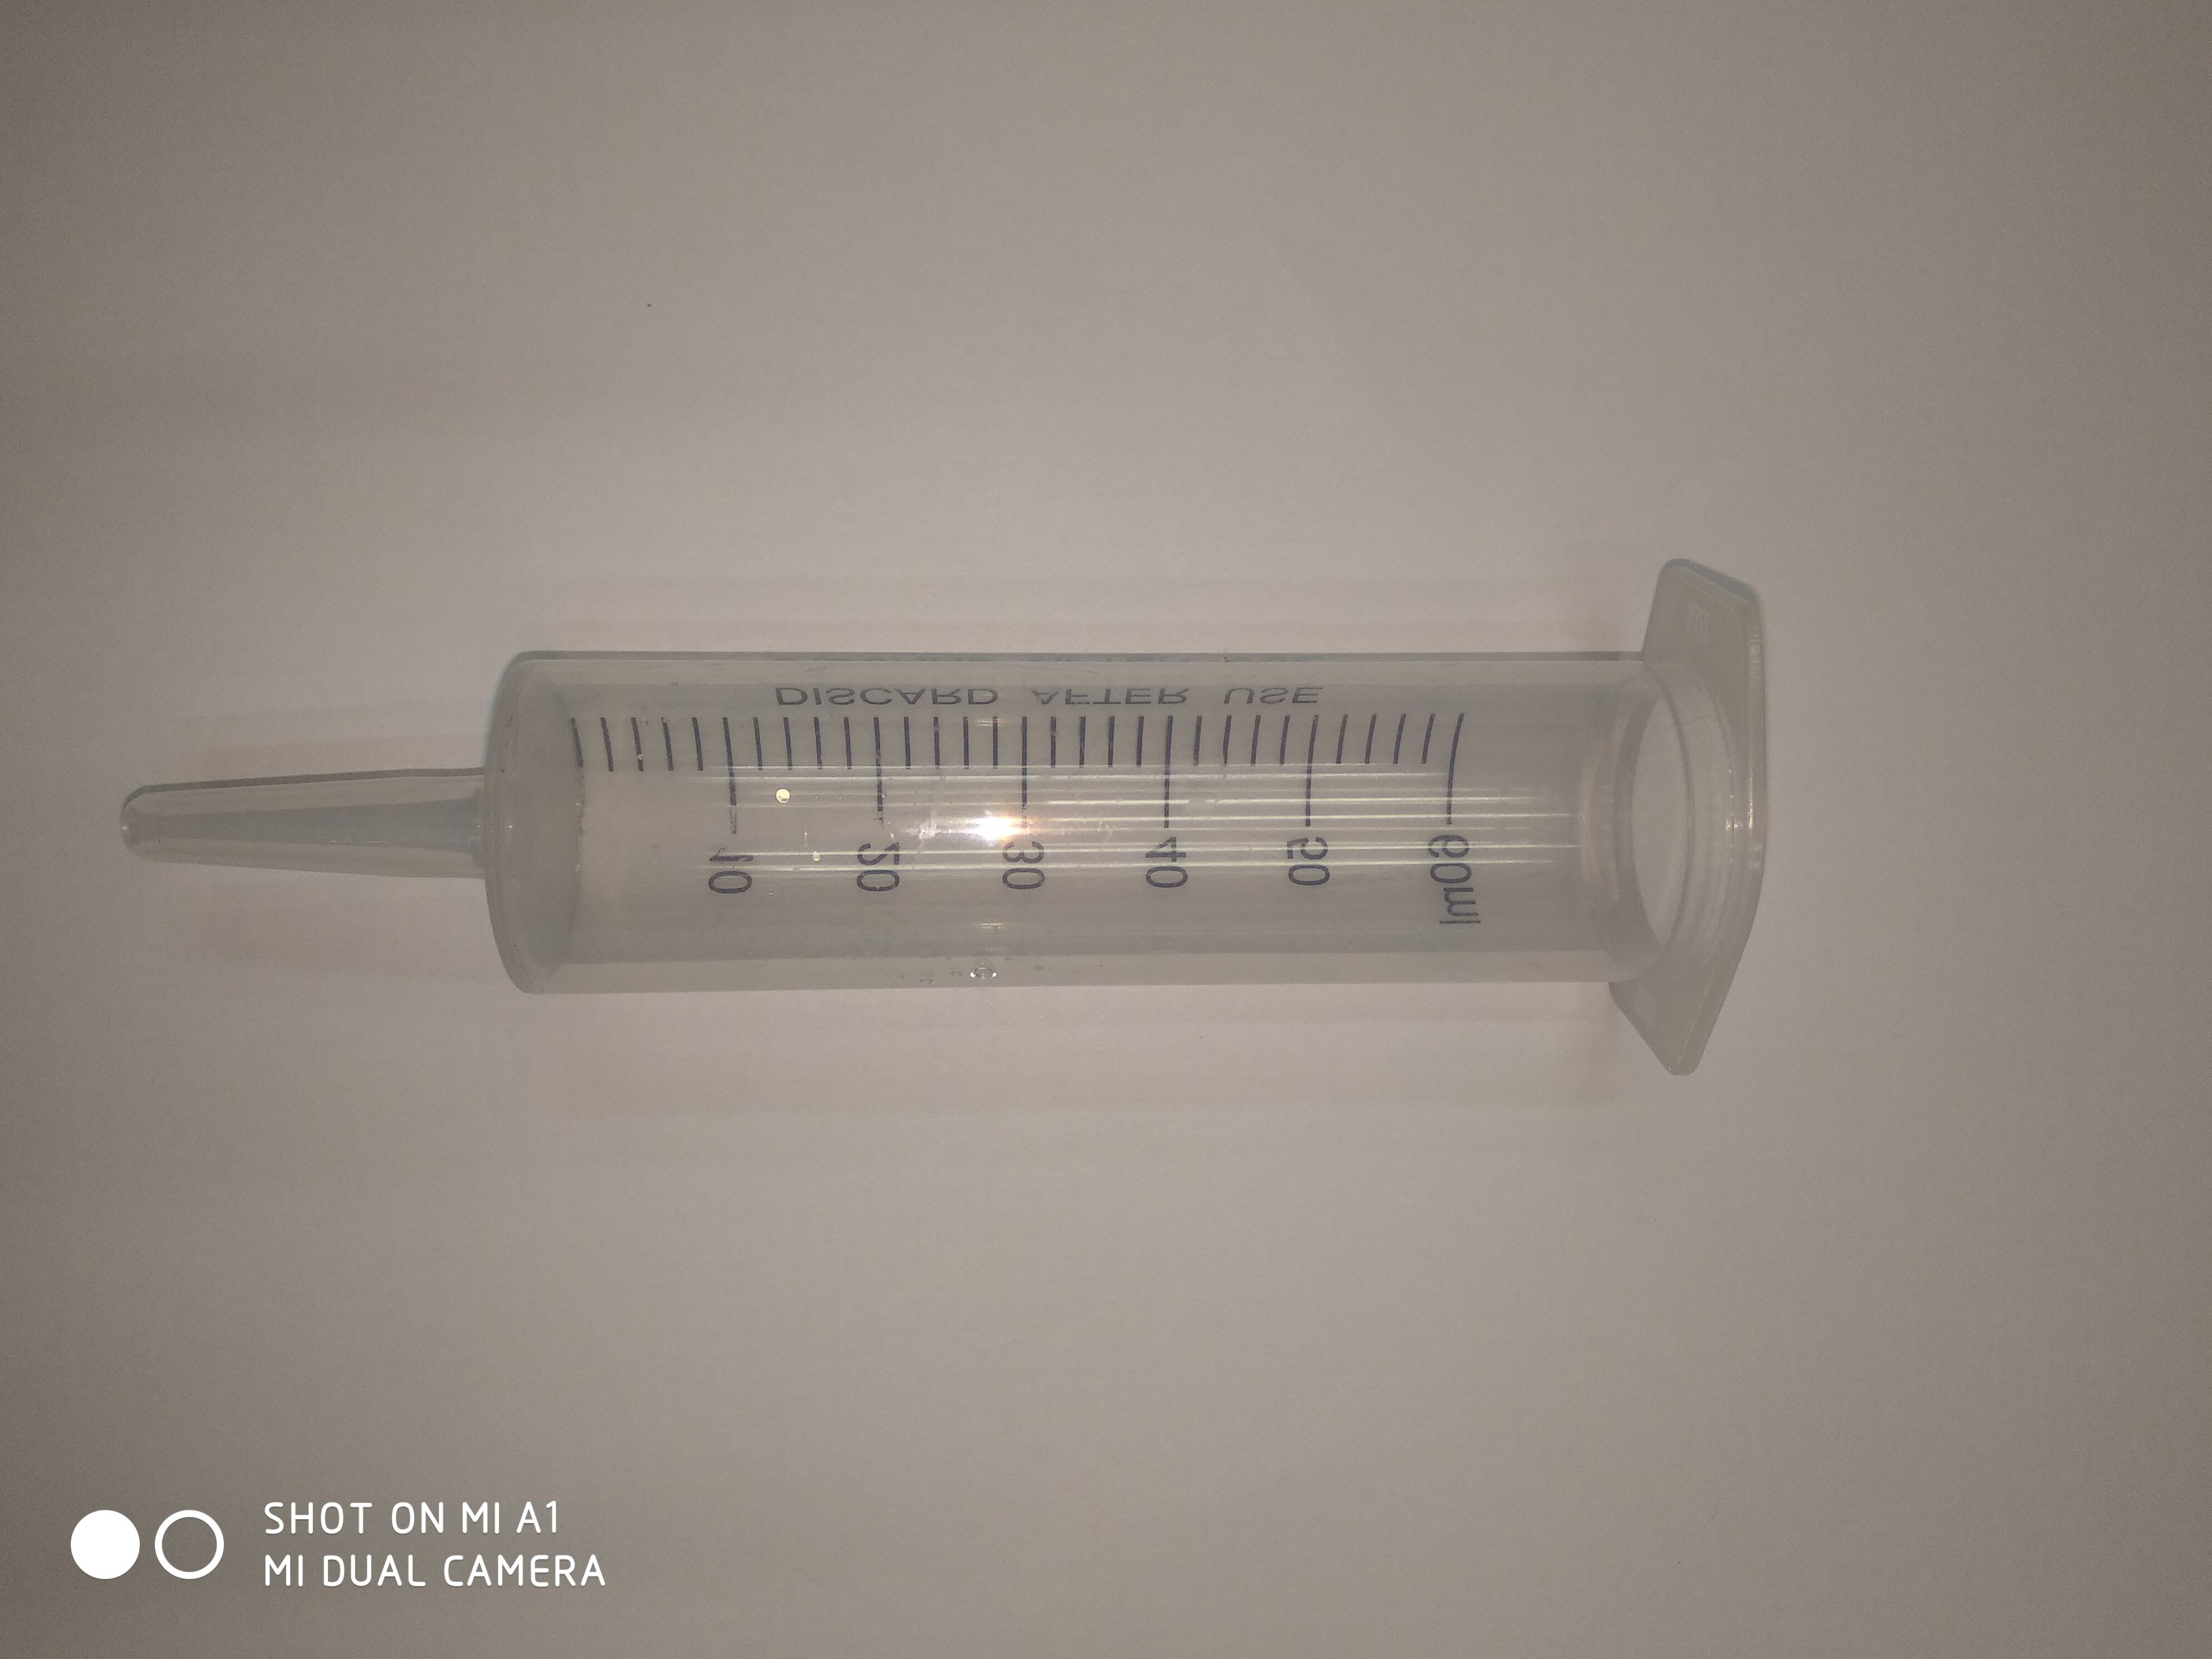syringe: (111, 547, 1777, 1086)
